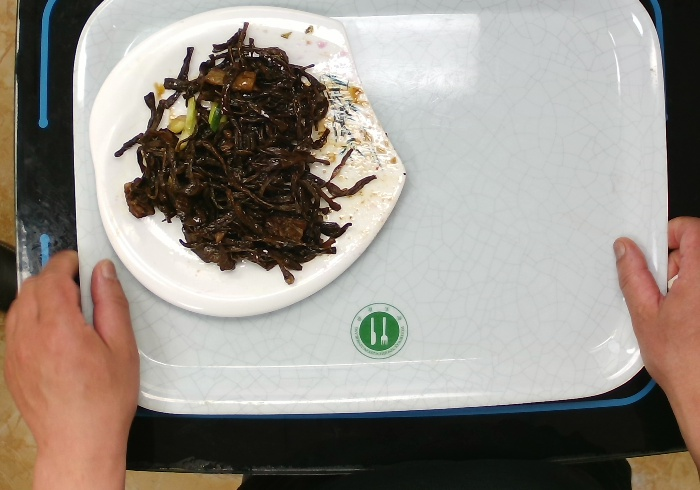JYsf-Mian_Pan: (85, 1, 408, 319)
